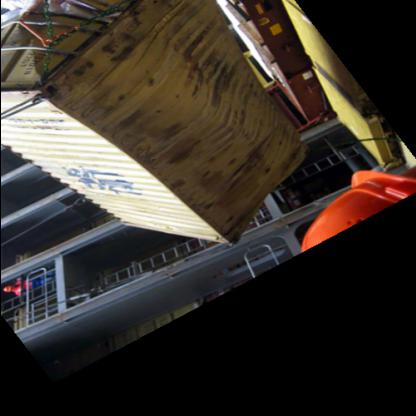Damage: (95, 98, 232, 210), (162, 16, 262, 112)
